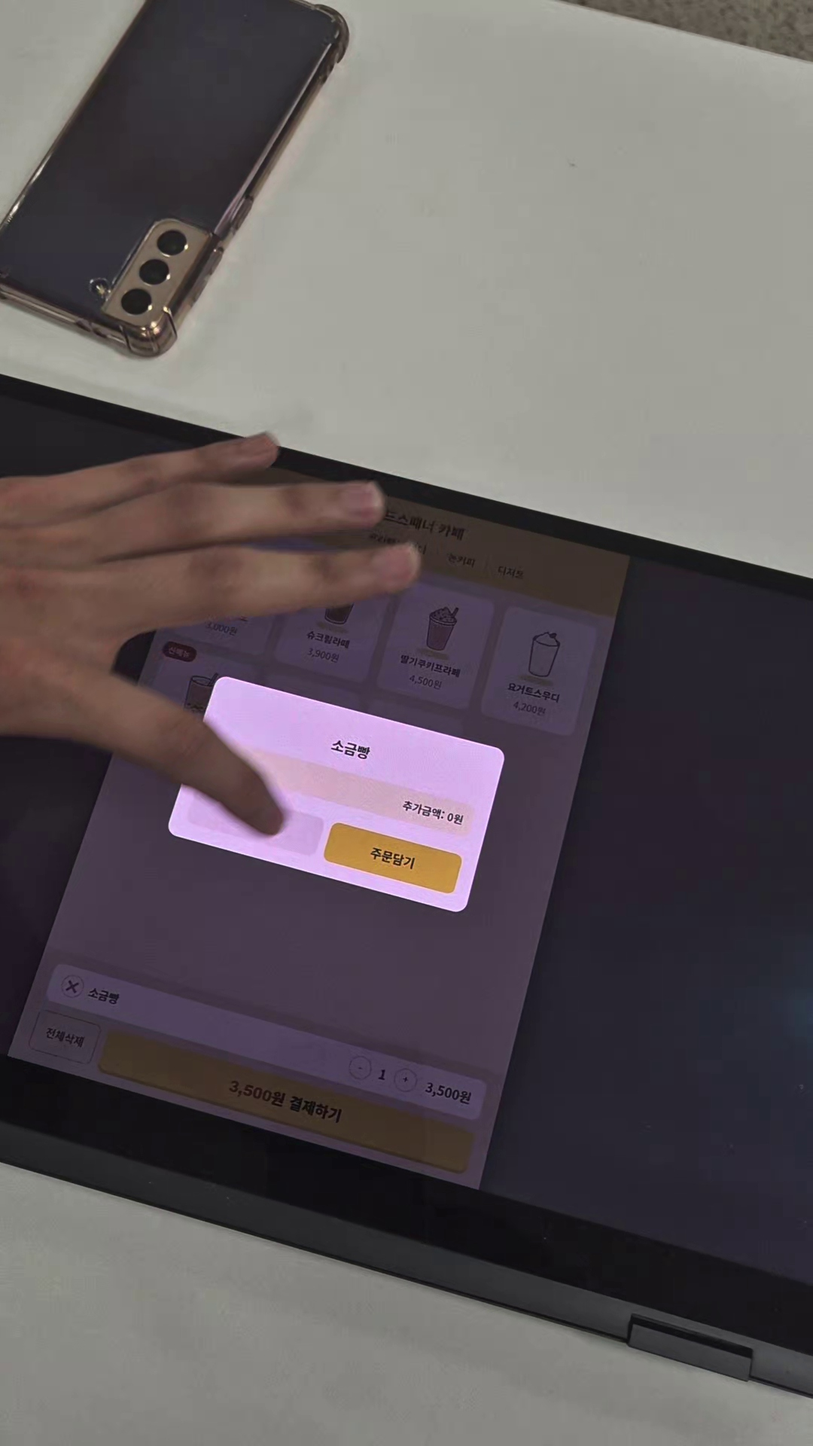action_button: (319, 816, 463, 898), (185, 785, 322, 860)
popup_modal: (165, 672, 509, 913)
